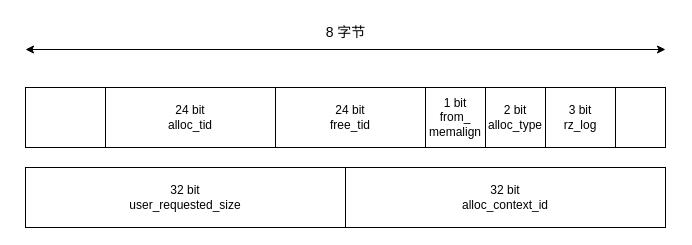
Some shapes in this 692 by 245 pixel diagram are drawn without their labels. Each missing label, with the centre of its shape:
"2 bit lsan_tag" belongs at point (640, 117).
"8 bit chunk state" belongs at point (65, 117).
